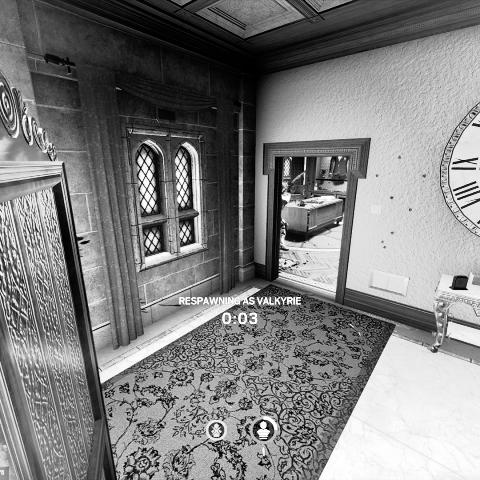Character: (278, 180, 293, 252)
Head: (281, 183, 288, 192)
